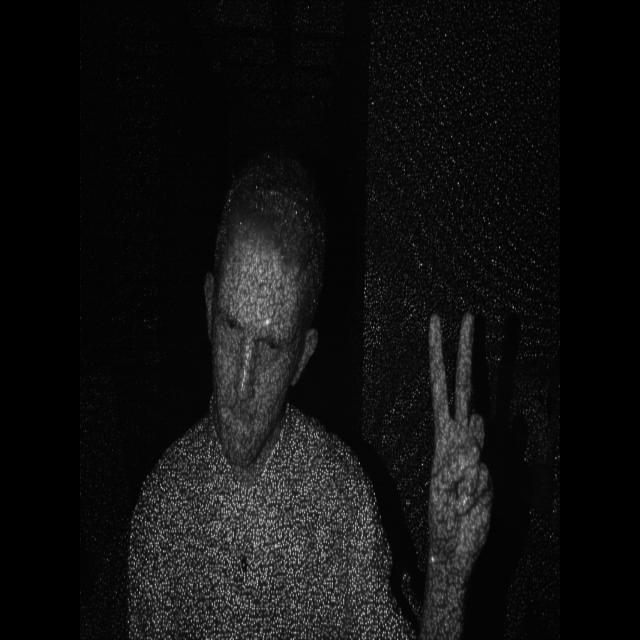V: (413, 294, 500, 568)
